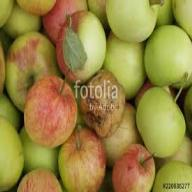apple: (3, 34, 63, 104), (76, 68, 132, 136), (57, 13, 110, 84), (135, 90, 188, 151), (25, 77, 78, 136), (102, 36, 144, 100), (146, 29, 190, 90), (59, 128, 103, 185), (109, 139, 154, 189), (105, 4, 152, 41)
